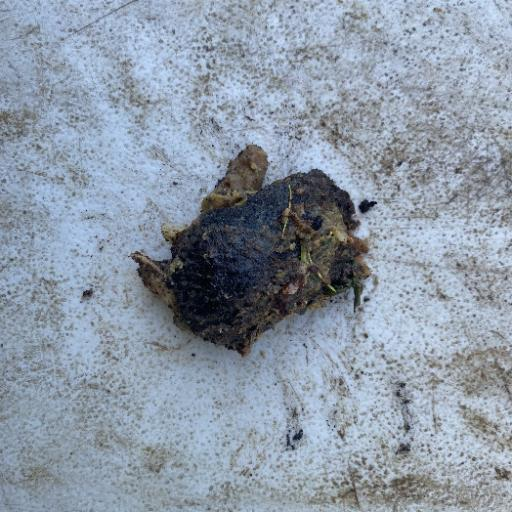Waste: (128, 142, 372, 358)
